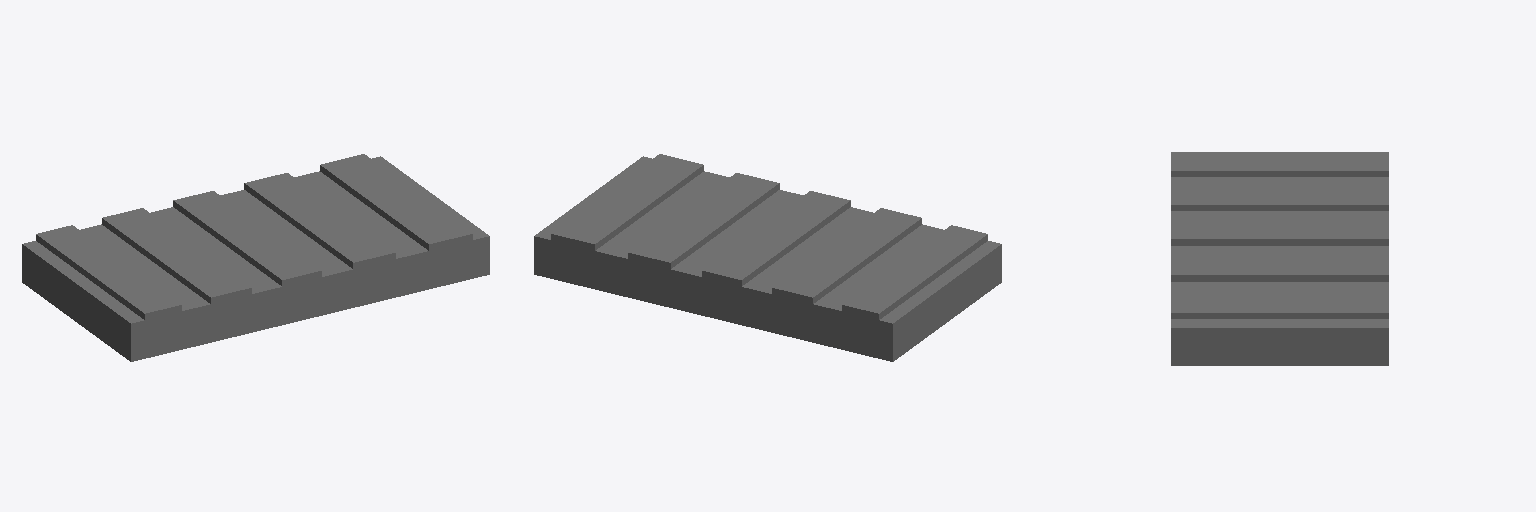
The model's file is road6.obj.
3 renders of one model, left to right at view 1: azimuth 30°, elevation 25°; view 2: azimuth 150°, elevation 25°; view 3: azimuth 270°, elevation 25°, orthographic.
Visible parts, largest first — view 1: conn0:pCube1; view 2: conn0:pCube1; view 3: conn0:pCube1.
Part boxes in pixels (left/top/right/bottom): conn0:pCube1: left=22, top=154, right=489, bottom=361; conn0:pCube1: left=534, top=154, right=1001, bottom=361; conn0:pCube1: left=1171, top=152, right=1388, bottom=365.
Bounding box in the file's own units: 19 × 2.28 × 10.